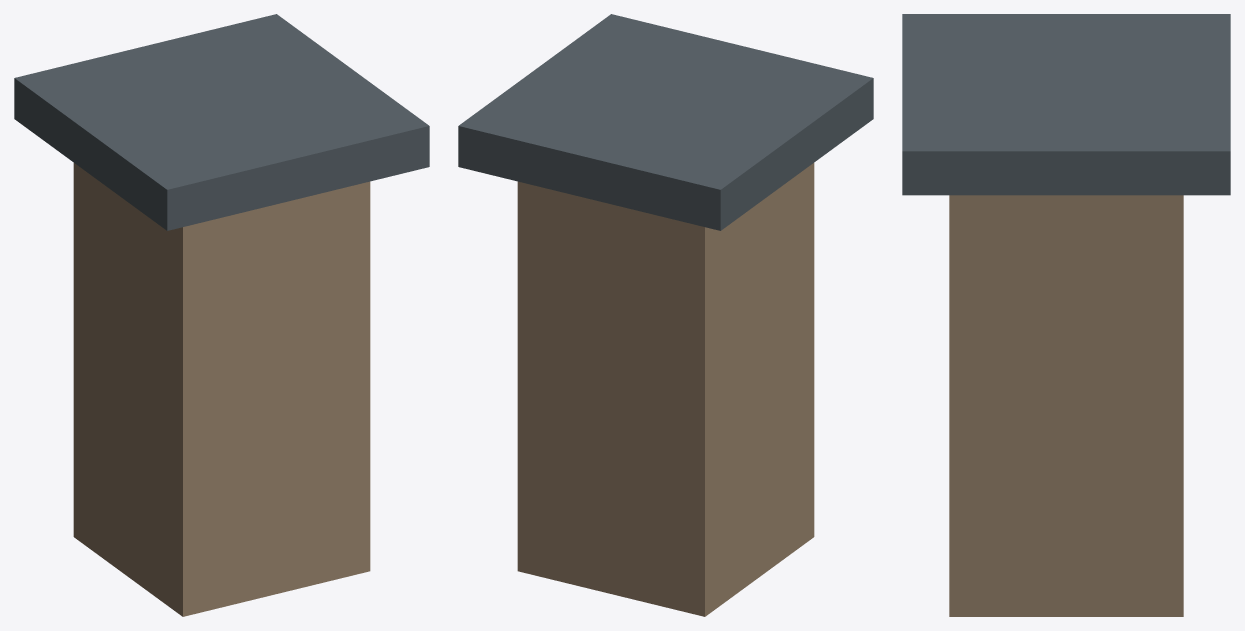
File: iz2_refuge_island.glb
3 views of the same model, side by side, from view 1: azimuth 30°, elevation 25°; view 2: azimuth 150°, elevation 25°; view 3: azimuth 270°, elevation 25° (orthographic). The views are drawn at different scales.
Visible parts, largest first — view 1: body; view 2: body; view 3: body.
Part boxes in pixels (x1,y1,x2,y2): body: (14,14,429,616); body: (458,14,873,616); body: (902,14,1230,616).
Size of the model in its own units: 0.6761 by 1.11 by 0.6825.
